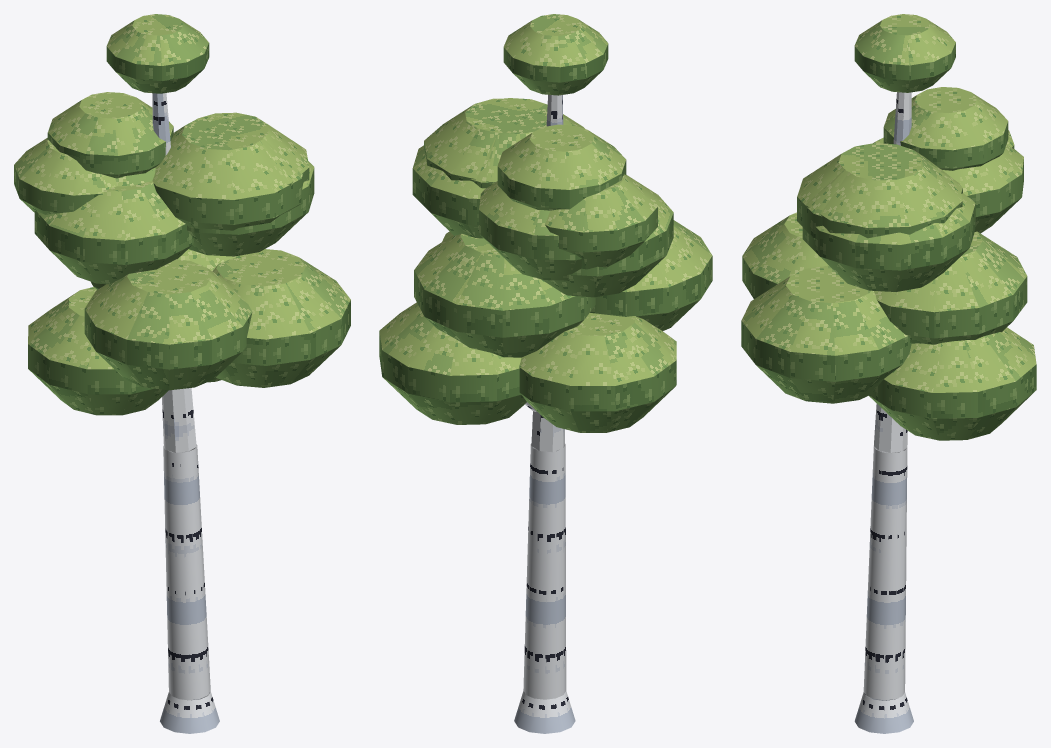
The model's file is birch_5.glb.
3 renders of one model, left to right at view 1: azimuth 30°, elevation 25°; view 2: azimuth 150°, elevation 25°; view 3: azimuth 270°, elevation 25°, orthographic. The views are drawn at different scales.
Visible parts, largest first — view 1: birch_6; view 2: birch_6; view 3: birch_6.
Part boxes in pixels (x1,y1,x2,y2): birch_6: (14,14,350,733); birch_6: (379,14,712,733); birch_6: (741,14,1036,733).
Size of the model in its own units: 2.26 by 5.85 by 2.28.
Materials: 3 (3 with a texture image).
